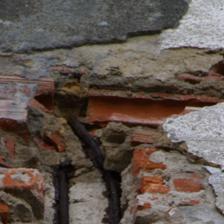Crack: (34, 87, 129, 222), (22, 21, 182, 58)
